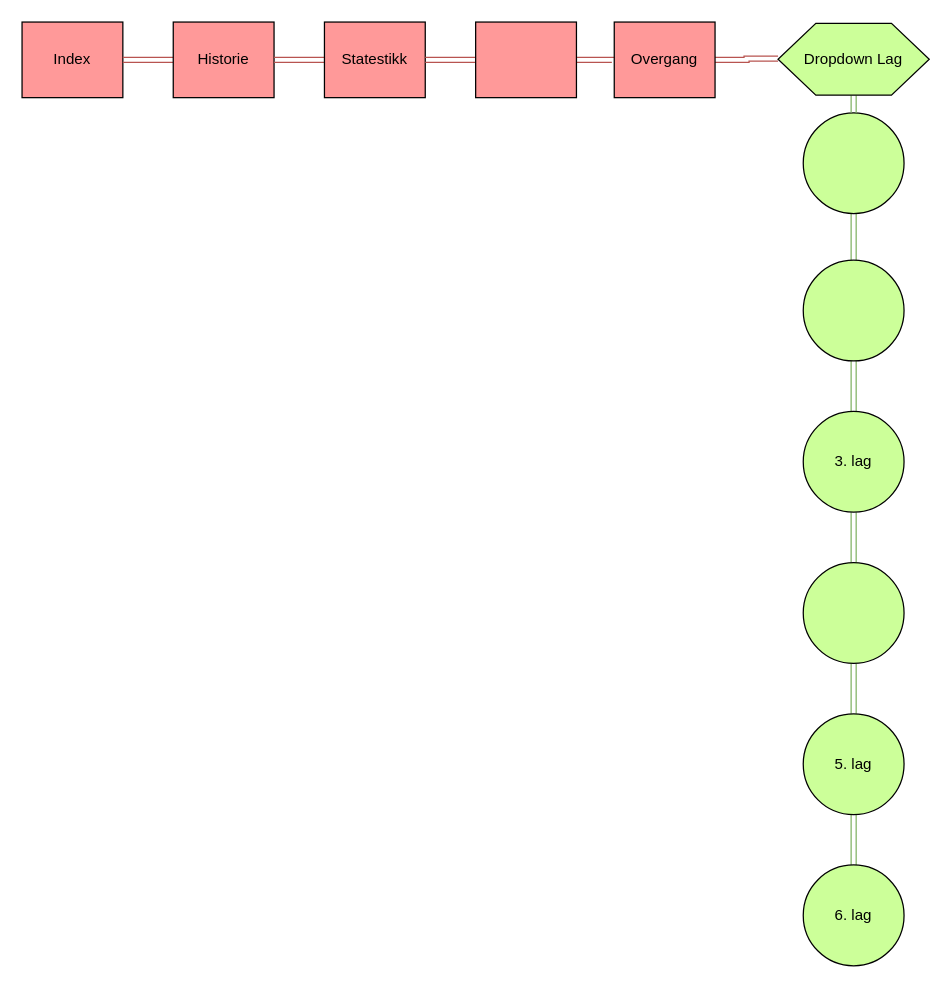
Image size: 951x988. Some labels were removed from this diagram. The centre of each missing label's shape, as x and y in pixels:
1. lag: pixel 853 163
2. lag: pixel 853 310
4. lag: pixel 853 612
Tabellliste: pixel 525 59
